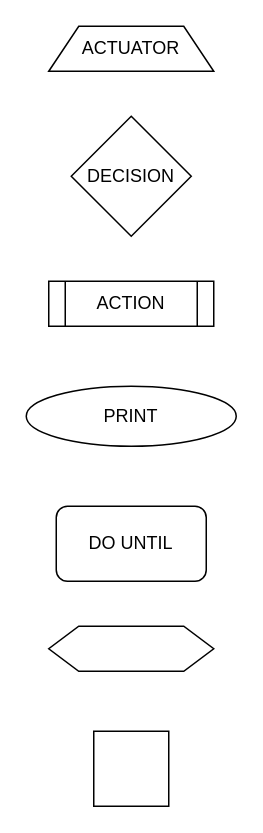
The diagram is 263 pixels wide and 833 high, and some of its shapes have lost their labels. Each missing label, with the centre of its shape:
"SET VARIABLE" belongs at point 130,648.
"STOP" belongs at point 130,768.
